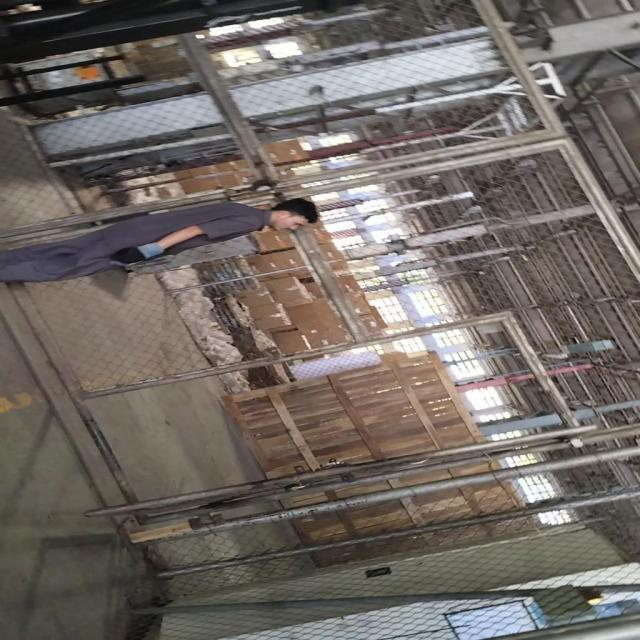Gloves-Detection: (112, 243, 164, 263)
